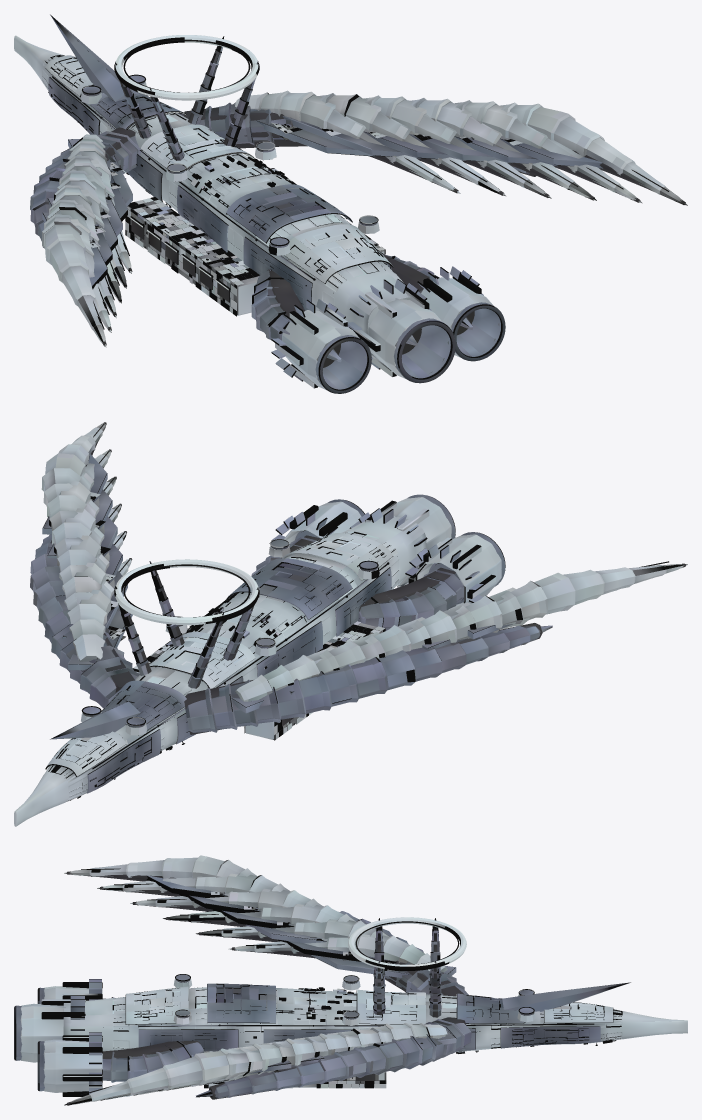
Rendered from prism_seraph_hero.glb.
3 views of the same model, one above another, from view 1: azimuth 30°, elevation 25°; view 2: azimuth 150°, elevation 25°; view 3: azimuth 270°, elevation 25° (orthographic). The views are drawn at different scales.
Visible parts, largest first — view 1: HullBaked; view 2: HullBaked; view 3: HullBaked.
Part boxes in pixels (x1,y1,x2,y2): HullBaked: [14, 14, 687, 393]; HullBaked: [14, 422, 687, 826]; HullBaked: [14, 855, 687, 1105].
Bounding box in the file's own units: 2508 × 658 × 3075.
Materials: 1 (1 with a texture image).
